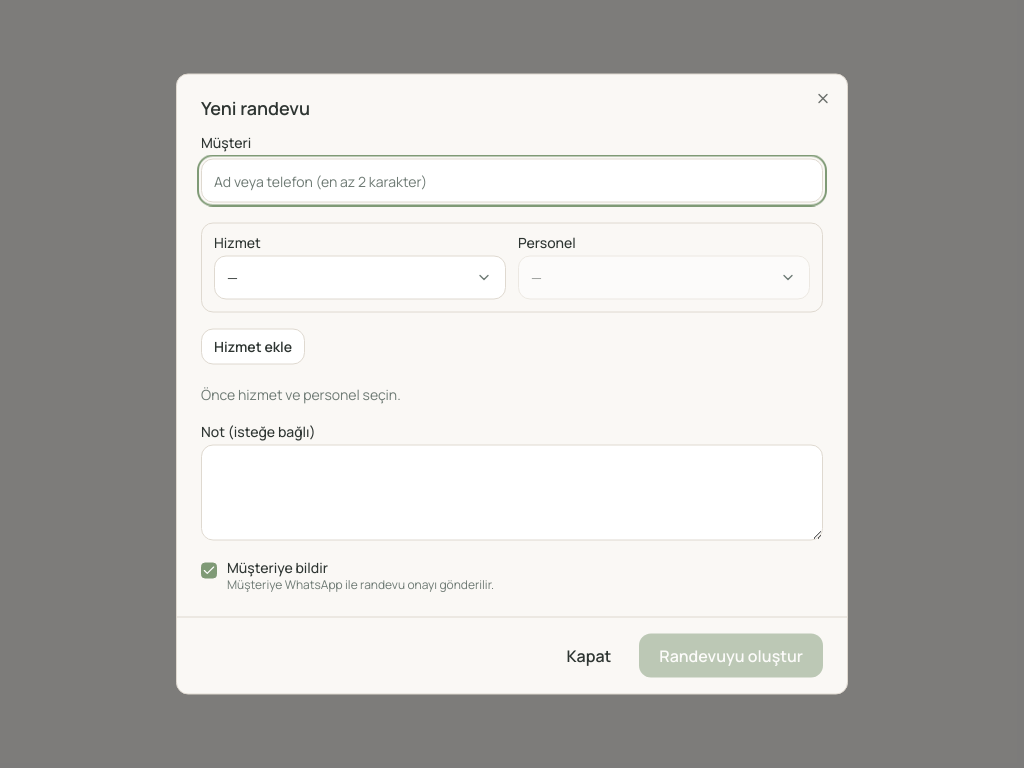
Test case: randevu oluşturma › tatil gününde "uygun saat yok" değil, TATİL deniyor
Step 1. Select "Lazer (30 dk)" in the dropdown labelled "Hizmet" → {"x": 360, "y": 278}, box top-left (214, 256), bottom-right (506, 300)
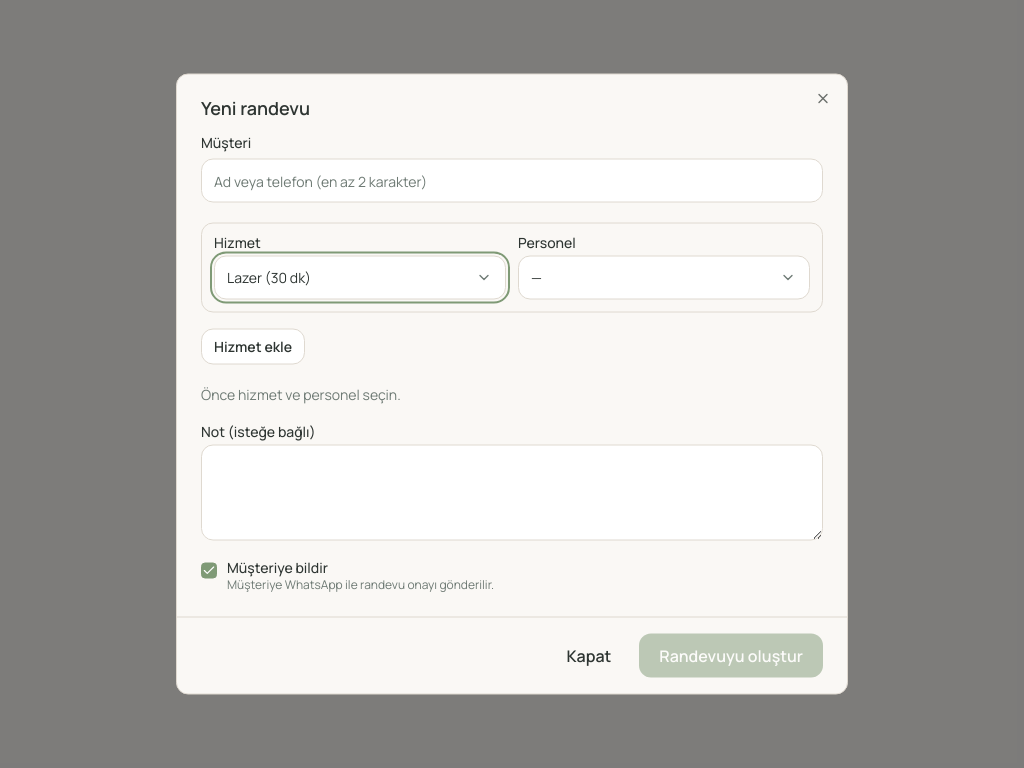
Step 2. Select "Zeynep Kaya" in the dropdown labelled "Personel" → {"x": 664, "y": 278}, box top-left (518, 256), bottom-right (810, 300)
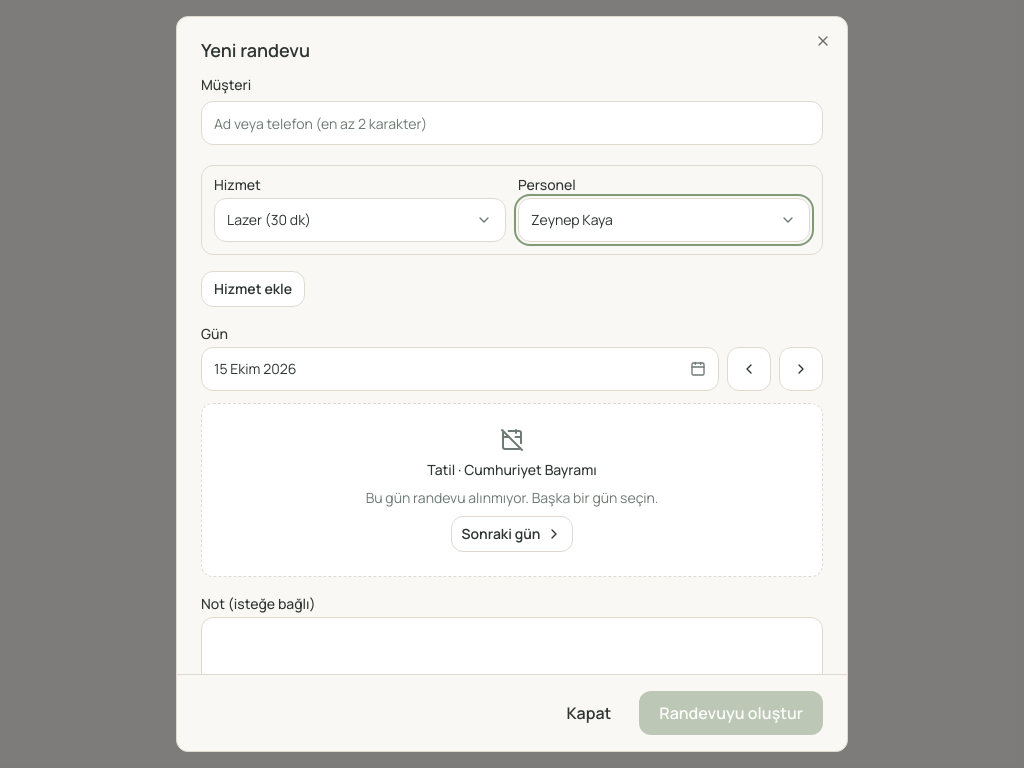
Check: the text "Tatil · Cumhuriyet Bayramı" is shown, box top-left (427, 460), bottom-right (597, 480)
